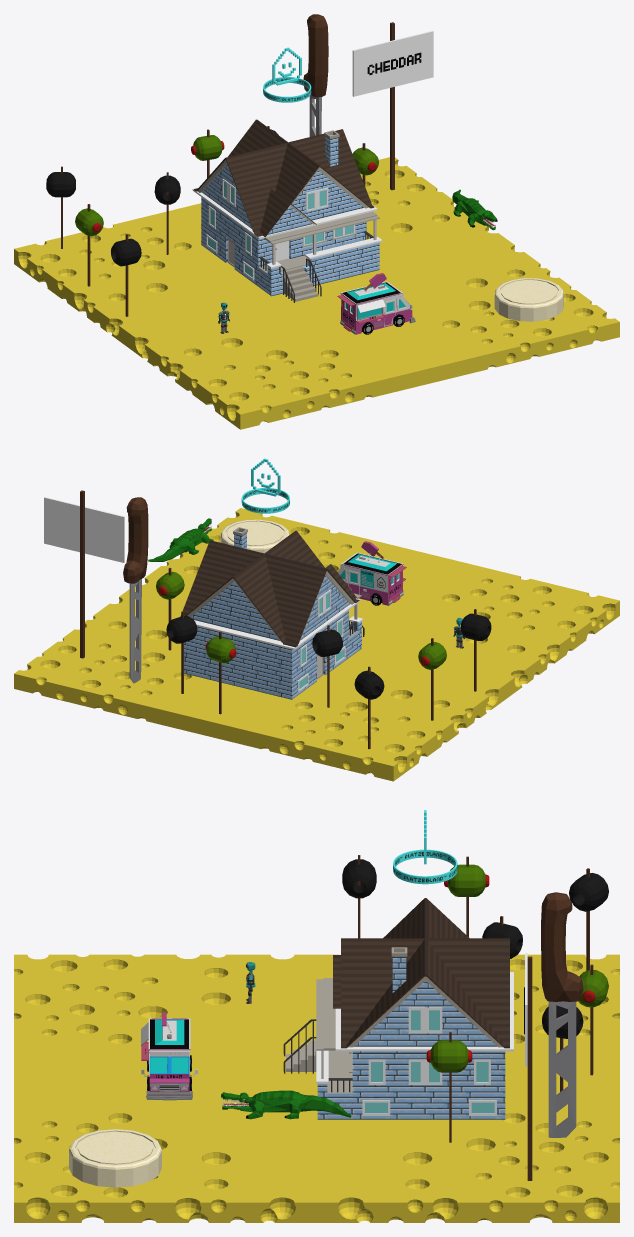
3 renders of one model, top to bottom at view 1: azimuth 30°, elevation 25°; view 2: azimuth 150°, elevation 25°; view 3: azimuth 270°, elevation 25°, orthographic. The views are drawn at different scales.
Visible parts, largest first — view 1: Cube.022, Cube.547, Cube.023, VEHICLES_ICE_CREAM_TRUCK, Cylinder.016, Cube.024, TYPE_PREMIUM, Sphere.017, ANIMAL_COCODRILO, Sphere.018, Sphere.016, Sphere.020 (+2 smaller); view 2: Cube.022, Cube.547, Cube.023, Cube.024, VEHICLES_ICE_CREAM_TRUCK, Cylinder.016, TYPE_PREMIUM, ANIMAL_COCODRILO, Sphere.021, Sphere.017, Sphere.020, Sphere.022 (+3 smaller); view 3: Cube.022, Cube.547, Cube.024, Cylinder.016, VEHICLES_ICE_CREAM_TRUCK, ANIMAL_COCODRILO, Cube.023, Sphere.019, Sphere.016, TYPE_PREMIUM, Sphere.017, Sphere.018 (+3 smaller).
Boxes of the visible parts, x1,y1,x2,y2 form: Cube.022: [14, 157, 619, 429]; Cube.547: [192, 119, 382, 302]; Cube.023: [352, 22, 433, 190]; VEHICLES_ICE_CREAM_TRUCK: [337, 273, 415, 334]; Cylinder.016: [494, 278, 563, 321]; Cube.024: [303, 14, 328, 136]; TYPE_PREMIUM: [263, 47, 311, 102]; Sphere.017: [111, 234, 141, 316]; ANIMAL_COCODRILO: [452, 189, 497, 230]; Sphere.018: [75, 204, 103, 286]; Sphere.016: [46, 166, 75, 248]; Sphere.020: [154, 172, 180, 254]; Cube.022: [14, 508, 619, 781]; Cube.547: [179, 527, 364, 699]; Cube.023: [44, 490, 124, 658]; Cube.024: [123, 497, 148, 683]; VEHICLES_ICE_CREAM_TRUCK: [337, 541, 406, 605]; Cylinder.016: [220, 519, 289, 553]; TYPE_PREMIUM: [241, 458, 289, 513]; ANIMAL_COCODRILO: [148, 518, 213, 561]; Sphere.021: [166, 611, 197, 693]; Sphere.017: [460, 609, 491, 691]; Sphere.020: [312, 625, 342, 707]; Sphere.022: [205, 631, 236, 714]; Cube.022: [14, 954, 619, 1222]; Cube.547: [283, 898, 513, 1119]; Cube.024: [541, 892, 583, 1137]; Cylinder.016: [69, 1129, 161, 1187]; VEHICLES_ICE_CREAM_TRUCK: [141, 1012, 197, 1100]; ANIMAL_COCODRILO: [221, 1090, 351, 1119]; Cube.023: [524, 953, 532, 1180]; Sphere.019: [426, 1032, 472, 1142]; Sphere.016: [569, 868, 608, 970]; TYPE_PREMIUM: [393, 810, 457, 884]; Sphere.017: [342, 855, 376, 938]; Sphere.018: [444, 856, 489, 936].
Size of the model in its own units: 3917 by 2376 by 4000.
47 materials, 5 textured.
